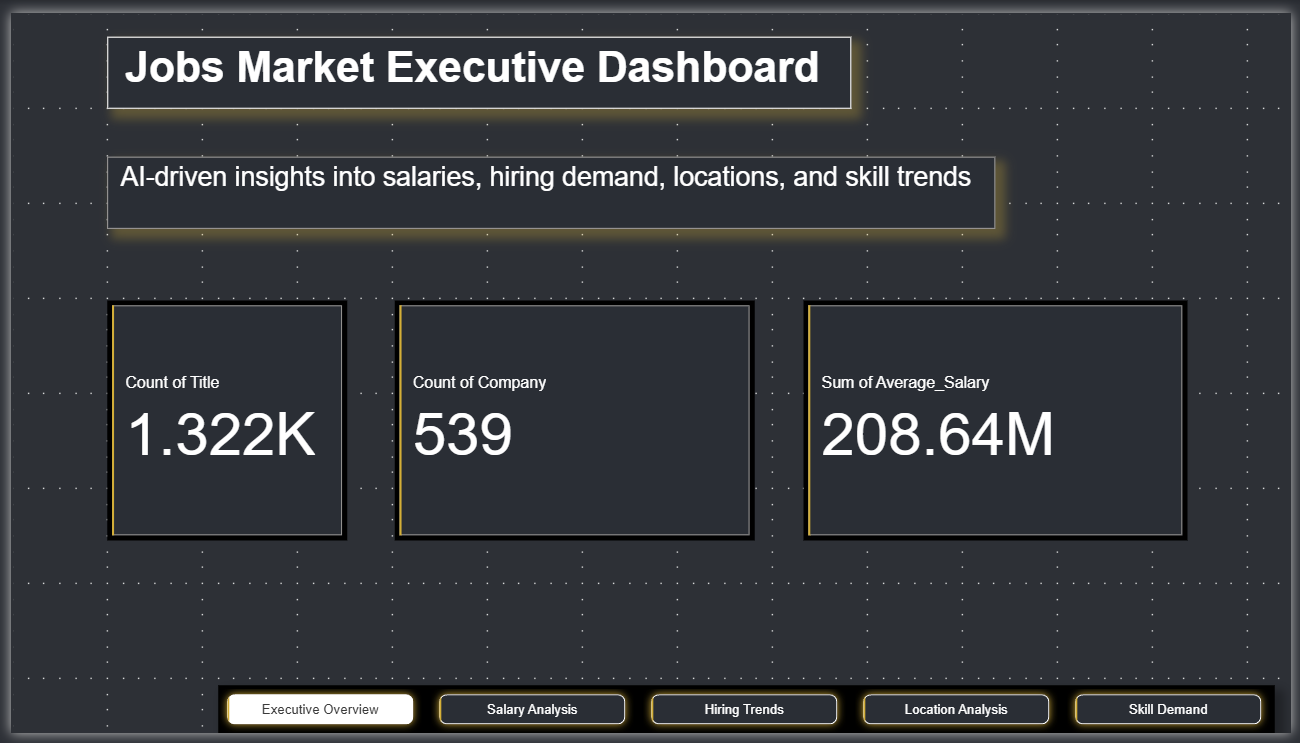

Layout of this report page (visuals, bound fields, positions):
{"tool":"powerbi","page":{"name":"Executive Overview","canvas":[1280,720],"ordinal":0},"visuals":[{"type":"cardVisual","fields":{"Data":["CountNonNull(powerbi_jobs_dataset.Title)"]},"box":[10,0,280,280],"z":0},{"type":"cardVisual","fields":{"Data":["Count(powerbi_jobs_dataset.Company)"]},"box":[10,290,280,280],"z":1000},{"type":"cardVisual","fields":{"Data":["Sum(powerbi_jobs_dataset.Average_Salary)"]},"box":[10,570,280,150],"z":2000}]}

Visuals, with their boxes in screenshot pixels (x1, y1, x2, y2), scaled from the page's 1280x720 canvas onto the 1300x743 screenshot:
cardVisual - CountNonNull(powerbi_jobs_dataset.Title): rect(10, 0, 295, 289)
cardVisual - Count(powerbi_jobs_dataset.Company): rect(10, 299, 295, 588)
cardVisual - Sum(powerbi_jobs_dataset.Average_Salary): rect(10, 588, 295, 742)
